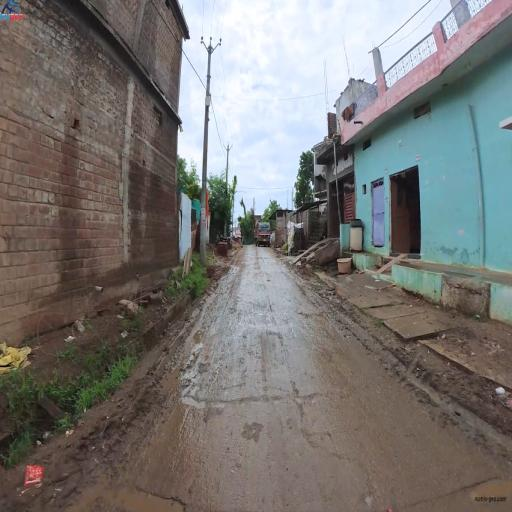longitudinal_crack: (174, 370, 394, 489)
